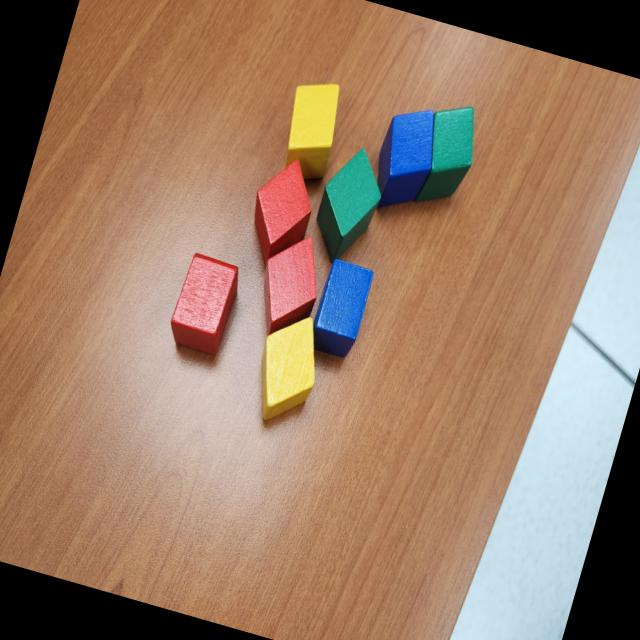blue: (363, 99, 448, 218), (304, 256, 376, 362)
green: (304, 138, 393, 271), (409, 96, 487, 215)
red: (237, 150, 326, 278), (248, 225, 334, 346), (164, 251, 244, 358)
yellow: (242, 305, 332, 433), (273, 73, 350, 184)
